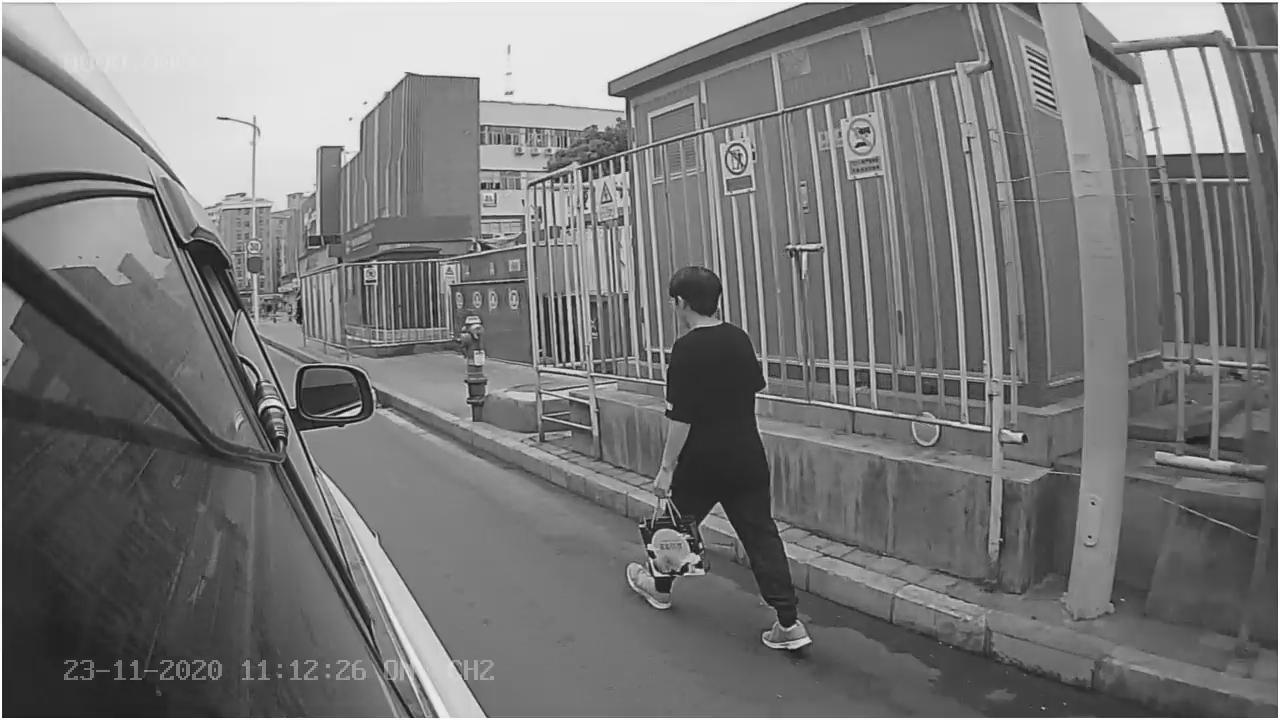person: (620, 267, 813, 672)
